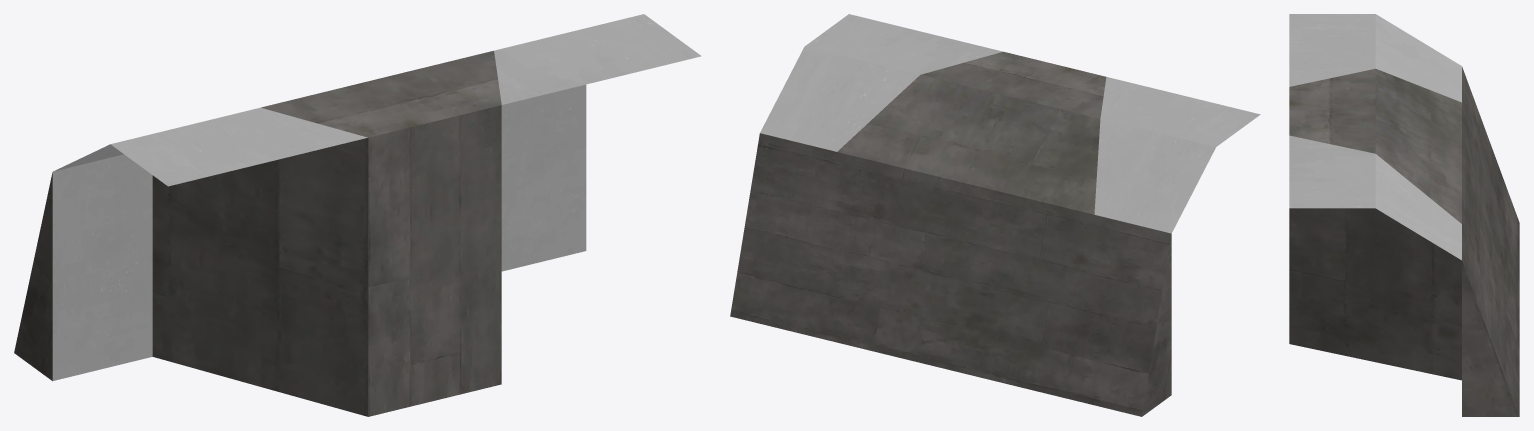
Rendered from beveled_ceiling.glb.
3 views of the same model, side by side, from view 1: azimuth 30°, elevation 25°; view 2: azimuth 150°, elevation 25°; view 3: azimuth 270°, elevation 25° (orthographic). The views are drawn at different scales.
Visible parts, largest first — view 1: beveled.ceiling; view 2: beveled.ceiling; view 3: beveled.ceiling.
Boxes of the visible parts, <box> form: beveled.ceiling: <box>14,14,701,416</box>; beveled.ceiling: <box>730,14,1260,416</box>; beveled.ceiling: <box>1289,14,1519,416</box>.
Bounding box in the file's own units: 1 × 0.5 × 0.5.
2 materials, 2 textured.
